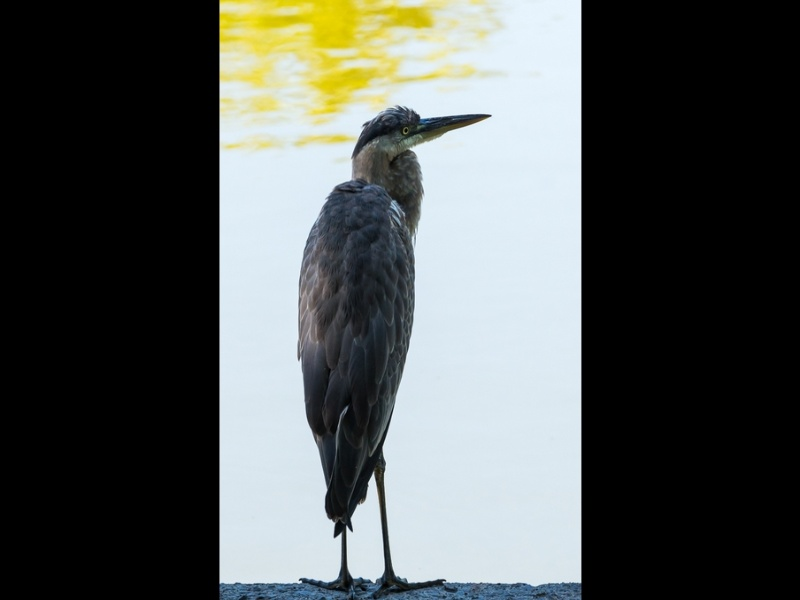heron: (293, 103, 497, 591)
